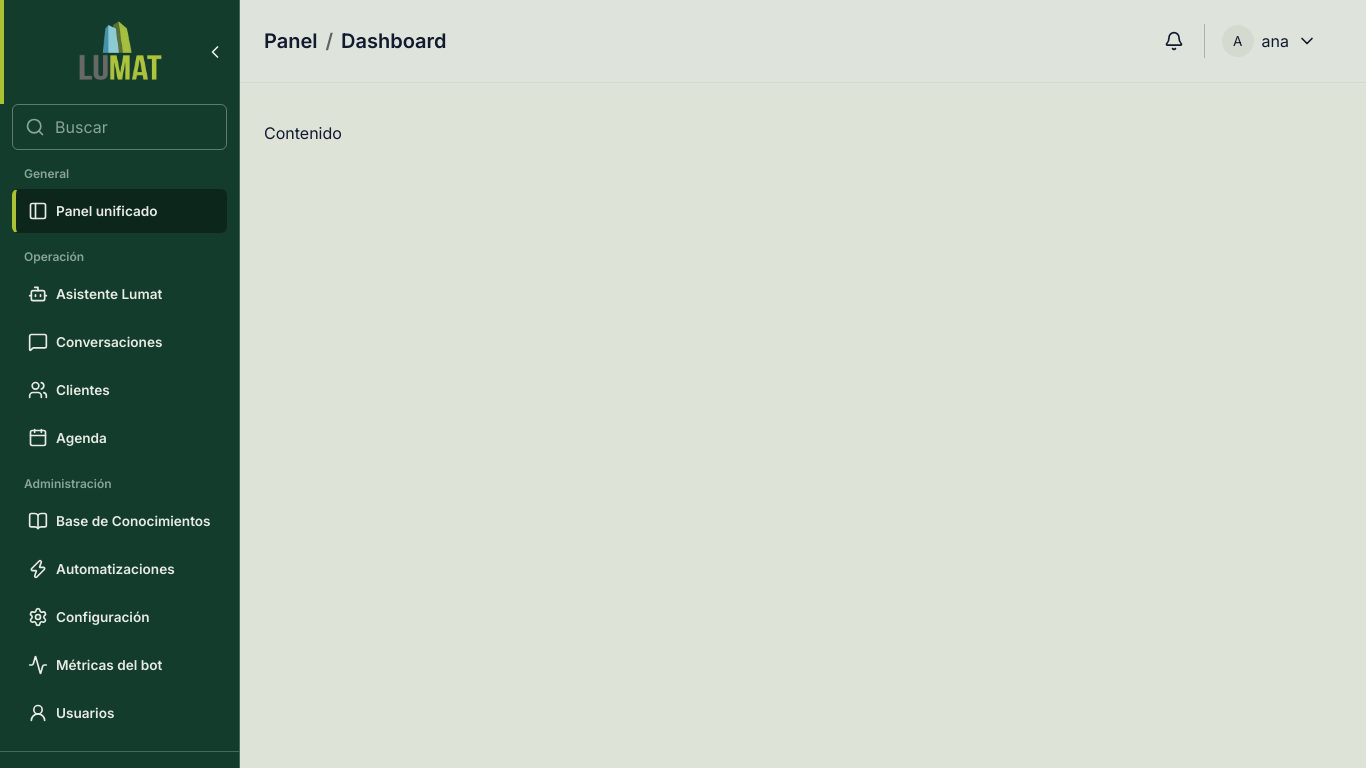
Test: PanelShell rail contract (2C-1) › renders the designed empty state
Click the button named "Notificaciones".
click(1174, 41)  # box [1152,19,1196,63]
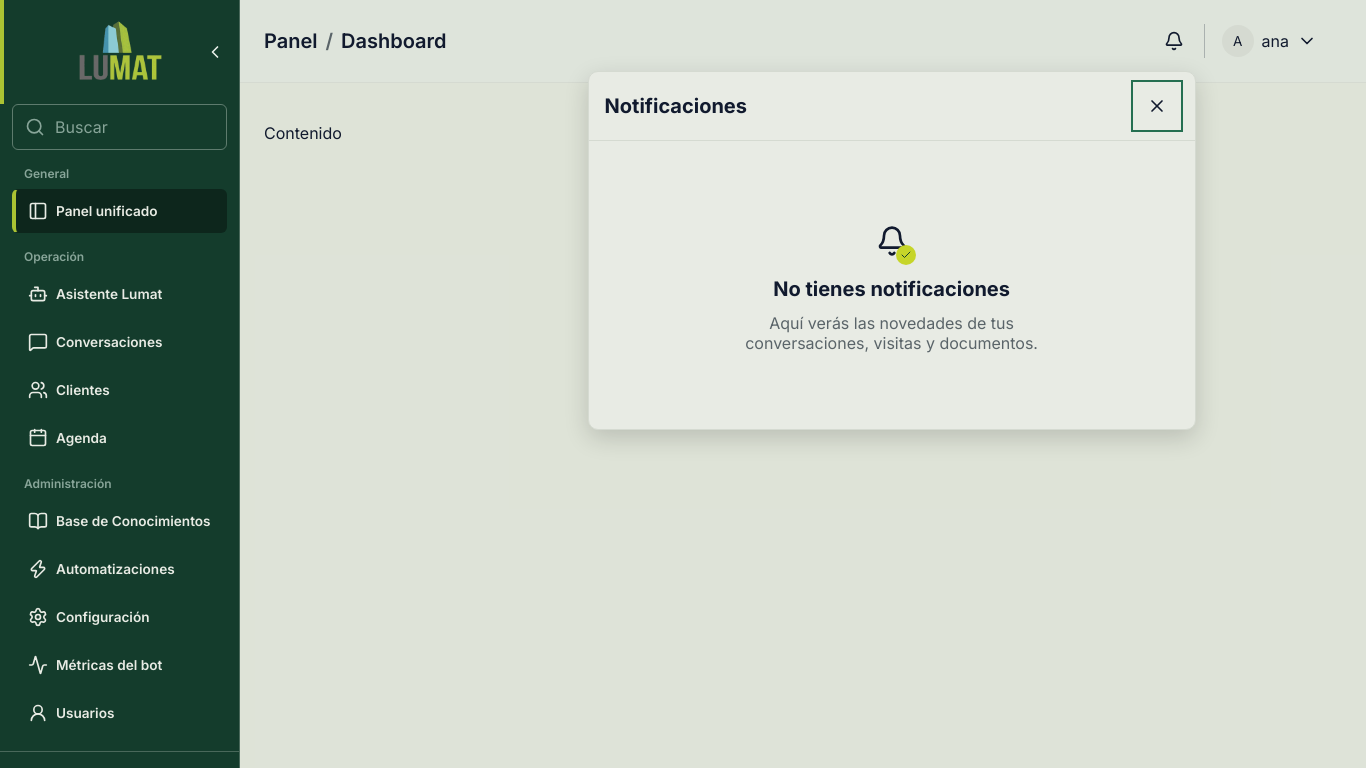
Expected: the text "No tienes notificaciones" is shown, [773,277,1010,301]
Expected: the text "Aquí verás las novedades de tus conversaciones, visitas y documentos." is shown, [745,313,1038,353]
